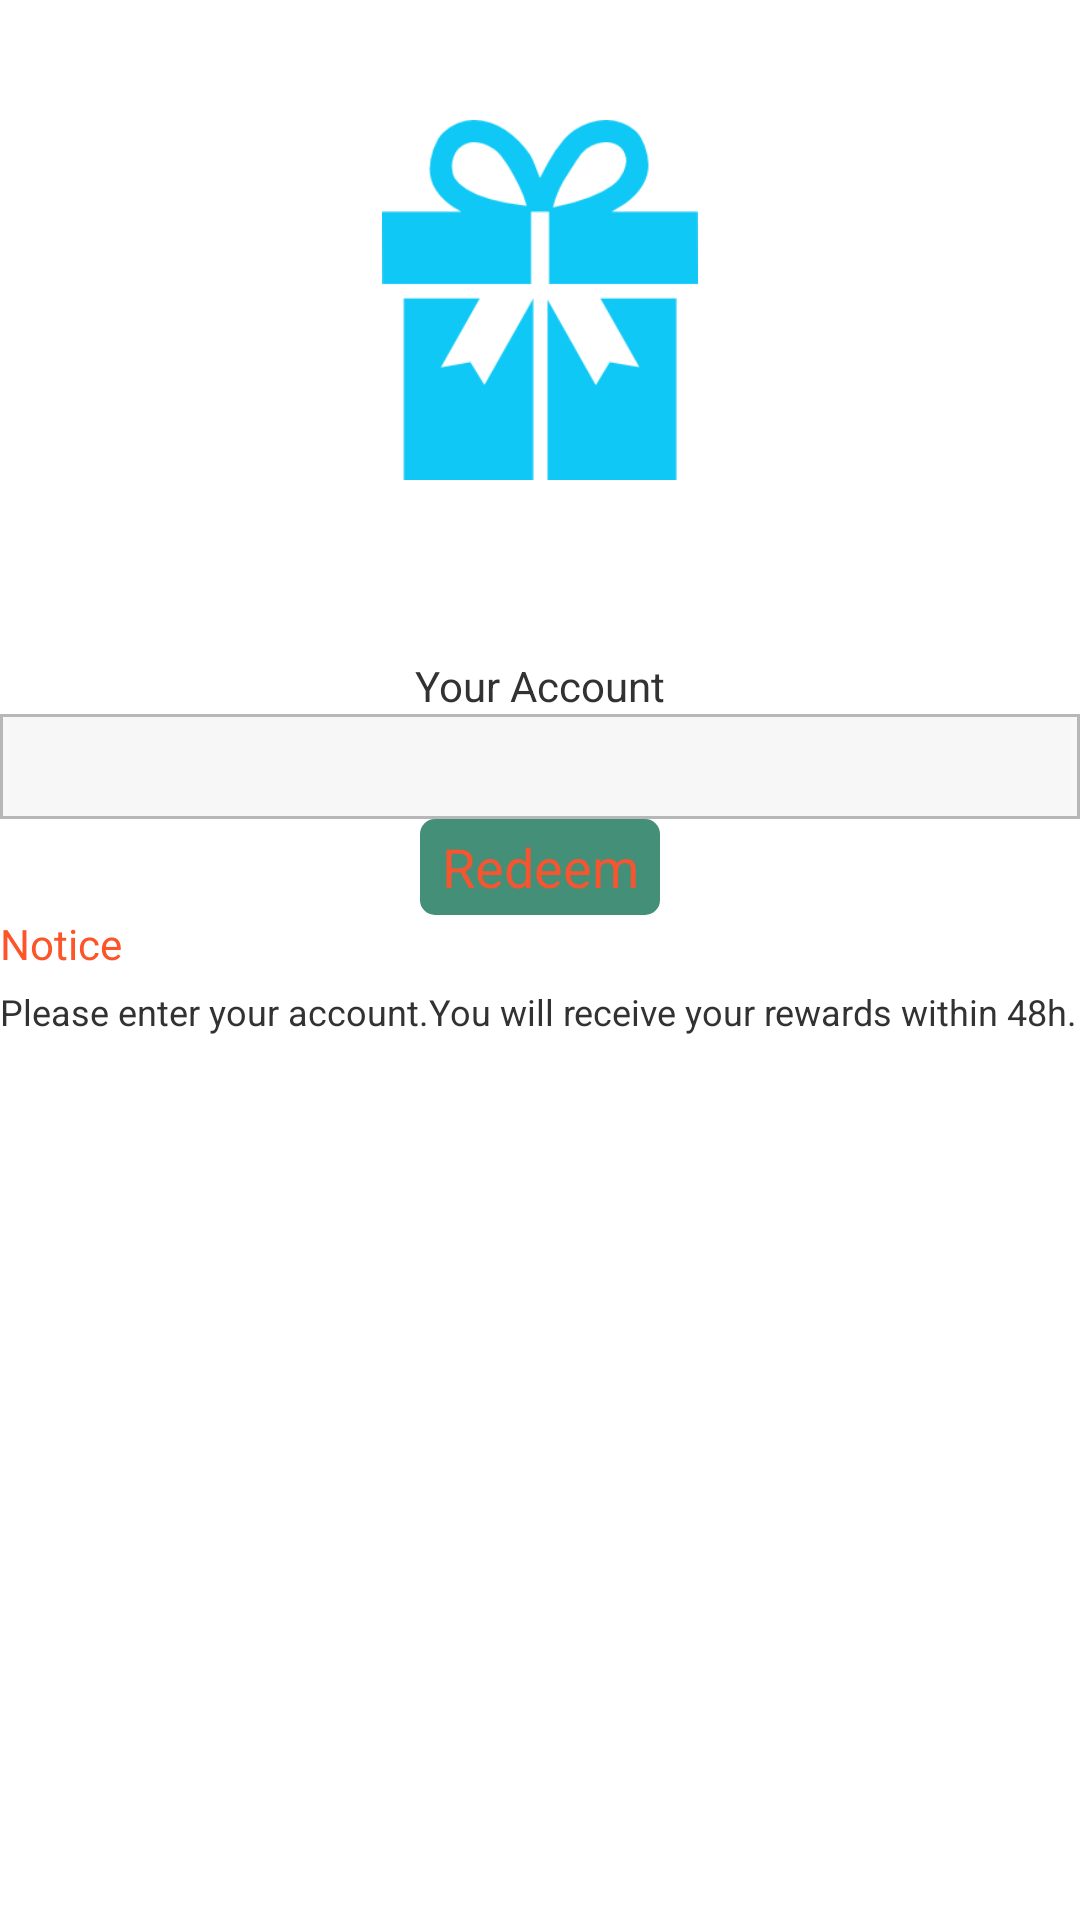

Named icons in this screenshot (1080x1920) and their bounding boxes, (x1, y1, x2, y2):
reward: (382, 120, 698, 480)
